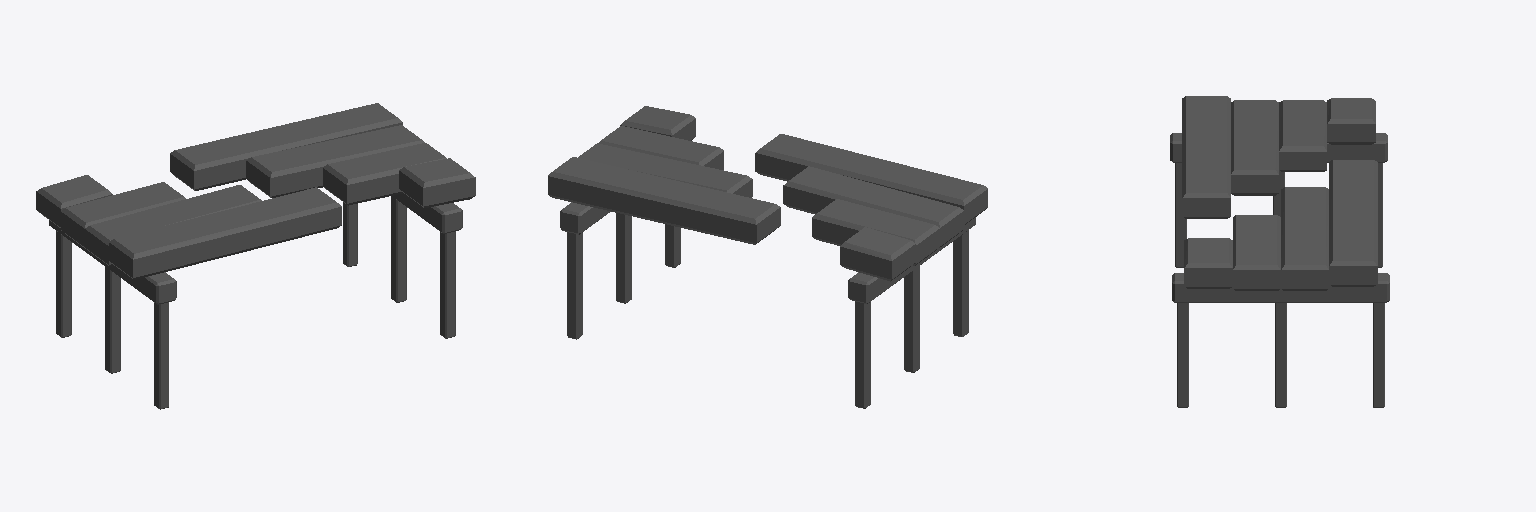
Rendered from CrackedPlatform.obj.
3 renders of one model, left to right at view 1: azimuth 30°, elevation 25°; view 2: azimuth 150°, elevation 25°; view 3: azimuth 270°, elevation 25°, orthographic.
Parts seen in each view (by area): view 1: pCube7_Untitled.093, pCube7.001_Untitled.097, pCube6.001_Untitled.098, pCube5.001_Untitled.099, pCube6_Untitled.092, pCube5_Untitled.089, pCube15.001_Untitled.100, pCube15_Untitled.095, pCube13.001_Untitled.102, pCube13_Untitled.091, pCube14_Untitled.096, pCube14.001_Untitled.101 (+4 smaller); view 2: pCube7.001_Untitled.097, pCube7_Untitled.093, pCube6_Untitled.092, pCube5_Untitled.089, pCube6.001_Untitled.098, pCube15_Untitled.095, pCube5.001_Untitled.099, pCube13_Untitled.091, pCube12.001_Untitled.103, pCube15.001_Untitled.100, pCube12_Untitled.094, pCube14_Untitled.096 (+4 smaller); view 3: pCube7.001_Untitled.097, pCube7_Untitled.093, pCube6.001_Untitled.098, pCube6_Untitled.092, pCube5.001_Untitled.099, pCube5_Untitled.089, pCube11.001_Untitled.104, pCube15.001_Untitled.100, pCube15_Untitled.095, pCube11_Untitled.090, pCube12.001_Untitled.103, pCube13.001_Untitled.102 (+2 smaller).
Part boxes in pixels (left/top/right/bottom): pCube7_Untitled.093: left=109, top=187, right=341, bottom=279; pCube7.001_Untitled.097: left=170, top=103, right=402, bottom=190; pCube6.001_Untitled.098: left=246, top=125, right=424, bottom=197; pCube5.001_Untitled.099: left=323, top=143, right=446, bottom=205; pCube6_Untitled.092: left=85, top=185, right=261, bottom=266; pCube5_Untitled.089: left=61, top=182, right=185, bottom=248; pCube15.001_Untitled.100: left=399, top=158, right=475, bottom=207; pCube15_Untitled.095: left=36, top=175, right=112, bottom=227; pCube13.001_Untitled.102: left=440, top=231, right=455, bottom=338; pCube13_Untitled.091: left=56, top=231, right=71, bottom=337; pCube14_Untitled.096: left=105, top=267, right=120, bottom=373; pCube14.001_Untitled.101: left=391, top=196, right=406, bottom=302; pCube7.001_Untitled.097: left=548, top=157, right=780, bottom=244; pCube7_Untitled.093: left=755, top=134, right=987, bottom=224; pCube6_Untitled.092: left=783, top=166, right=963, bottom=247; pCube5_Untitled.089: left=812, top=199, right=939, bottom=265; pCube6.001_Untitled.098: left=578, top=143, right=752, bottom=197; pCube15_Untitled.095: left=840, top=227, right=915, bottom=281; pCube5.001_Untitled.099: left=598, top=126, right=723, bottom=169; pCube13_Untitled.091: left=855, top=301, right=870, bottom=408; pCube12.001_Untitled.103: left=567, top=232, right=582, bottom=339; pCube15.001_Untitled.100: left=620, top=106, right=695, bottom=140; pCube12_Untitled.094: left=953, top=230, right=968, bottom=336; pCube14_Untitled.096: left=904, top=266, right=919, bottom=372; pCube7.001_Untitled.097: left=1329, top=160, right=1377, bottom=286; pCube7_Untitled.093: left=1182, top=96, right=1230, bottom=218; pCube6.001_Untitled.098: left=1281, top=187, right=1328, bottom=290; pCube6_Untitled.092: left=1231, top=100, right=1278, bottom=195; pCube5.001_Untitled.099: left=1233, top=215, right=1280, bottom=290; pCube5_Untitled.089: left=1279, top=100, right=1326, bottom=171; pCube11.001_Untitled.104: left=1172, top=273, right=1389, bottom=302; pCube15.001_Untitled.100: left=1184, top=238, right=1232, bottom=288; pCube15_Untitled.095: left=1327, top=98, right=1375, bottom=144; pCube11_Untitled.090: left=1170, top=133, right=1387, bottom=162; pCube12.001_Untitled.103: left=1373, top=303, right=1384, bottom=407; pCube13.001_Untitled.102: left=1177, top=303, right=1188, bottom=407.
Bounding box in the file's own units: 1.64 × 0.73 × 0.908.